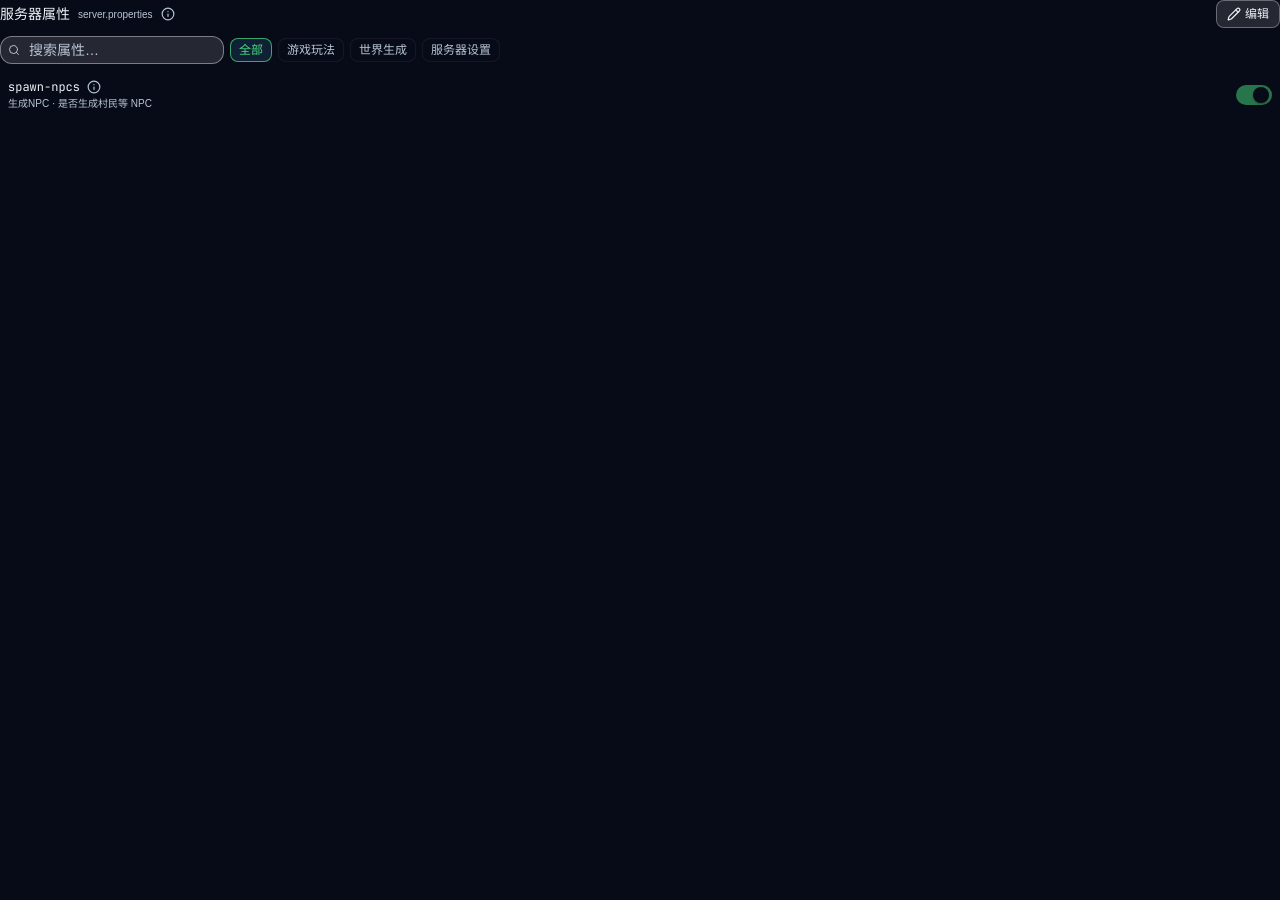
Test: 已迁出的属性键按实例版本锁定 › 无接替规则的键：说明它被移除且没有替代项
Step 1. Click the button named "本版本服务端已不再读取此项" → (94, 87), box [86, 79, 102, 95]
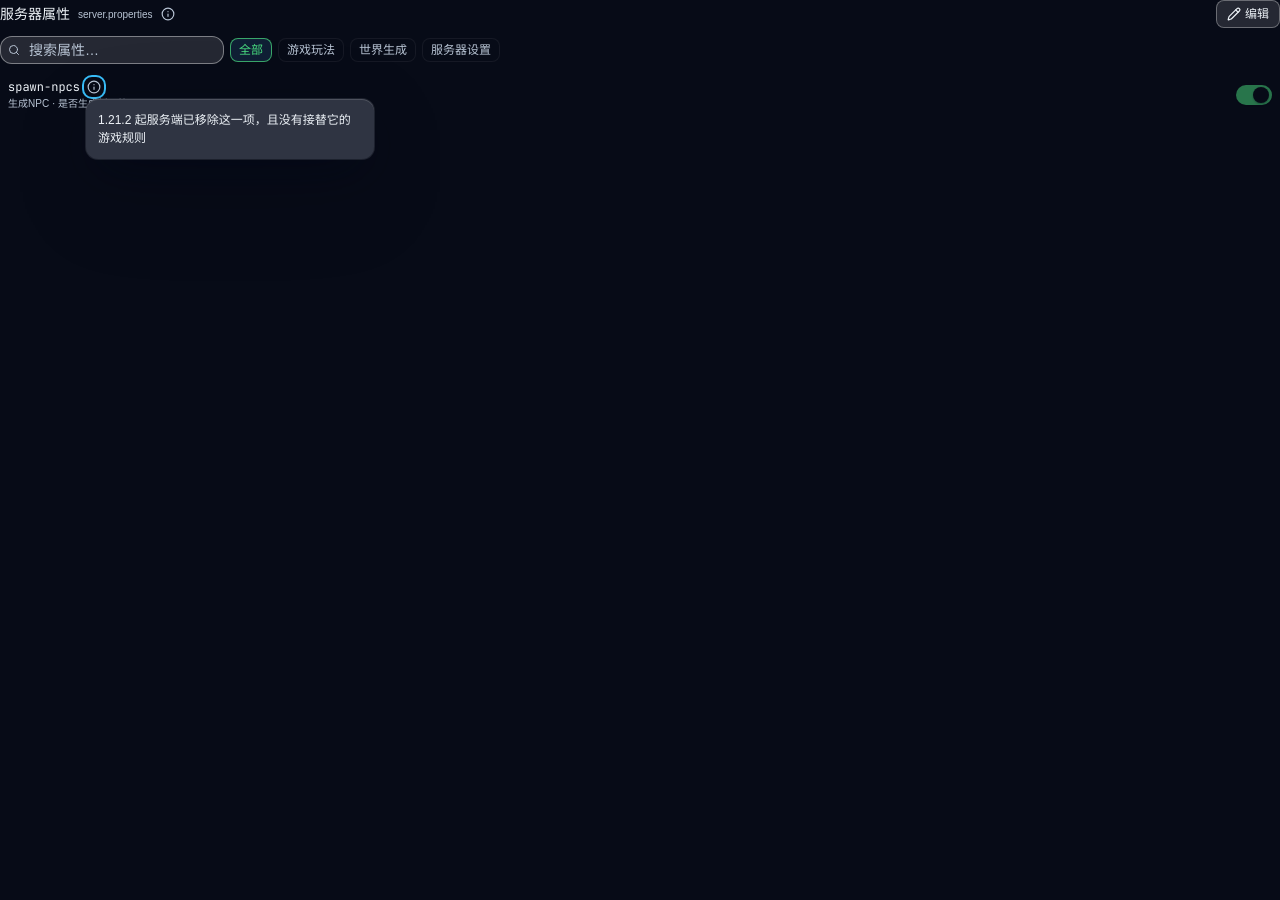
Now the dialog named "本版本服务端已不再读取此项" reads "1.21.2 起服务端已移除这一项，且没有接替它的游戏规则", box [98, 113, 351, 145]
